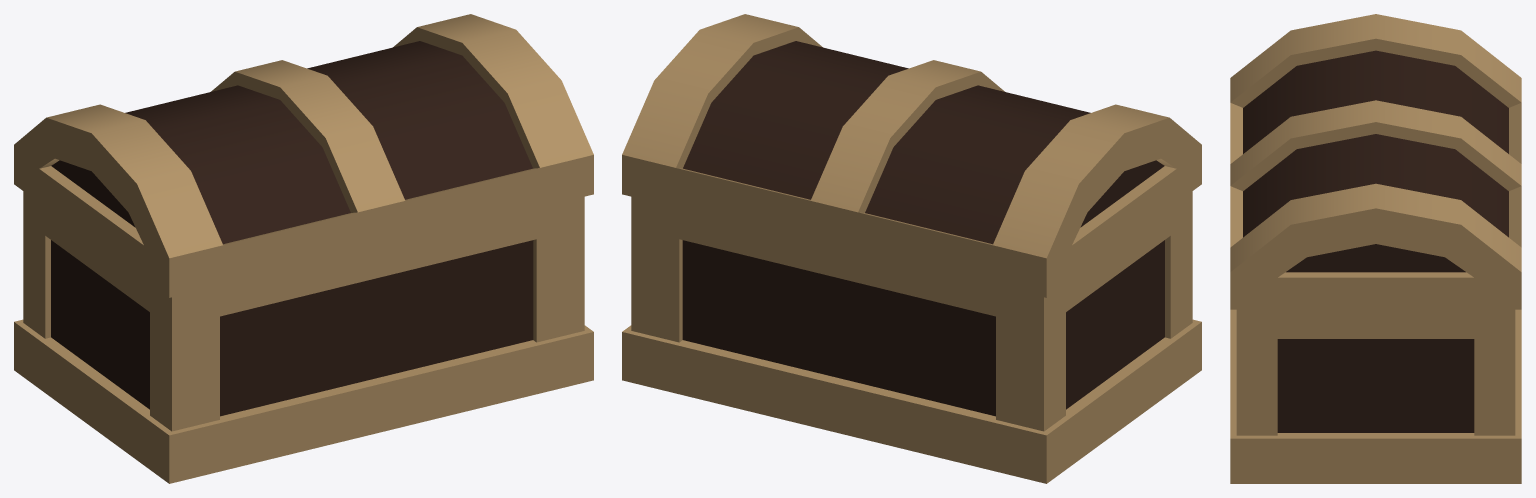
Rendered from Cofre.fbx.
The picture shows the model from 3 angles, left to right: view 1: azimuth 30°, elevation 25°; view 2: azimuth 150°, elevation 25°; view 3: azimuth 270°, elevation 25°; orthographic projection. The views are drawn at different scales.
Parts seen in each view (by area): view 1: Cofre, Cofre_tapa; view 2: Cofre, Cofre_tapa; view 3: Cofre_tapa, Cofre.
Boxes of the visible parts, x1,y1,x2,y2 form: Cofre: (14,191,593,483); Cofre_tapa: (14,14,593,297); Cofre: (622,191,1201,483); Cofre_tapa: (622,14,1201,297); Cofre_tapa: (1230,14,1521,309); Cofre: (1230,309,1521,483).
Size of the model in its own units: 1.44 by 0.9494 by 0.9096.
